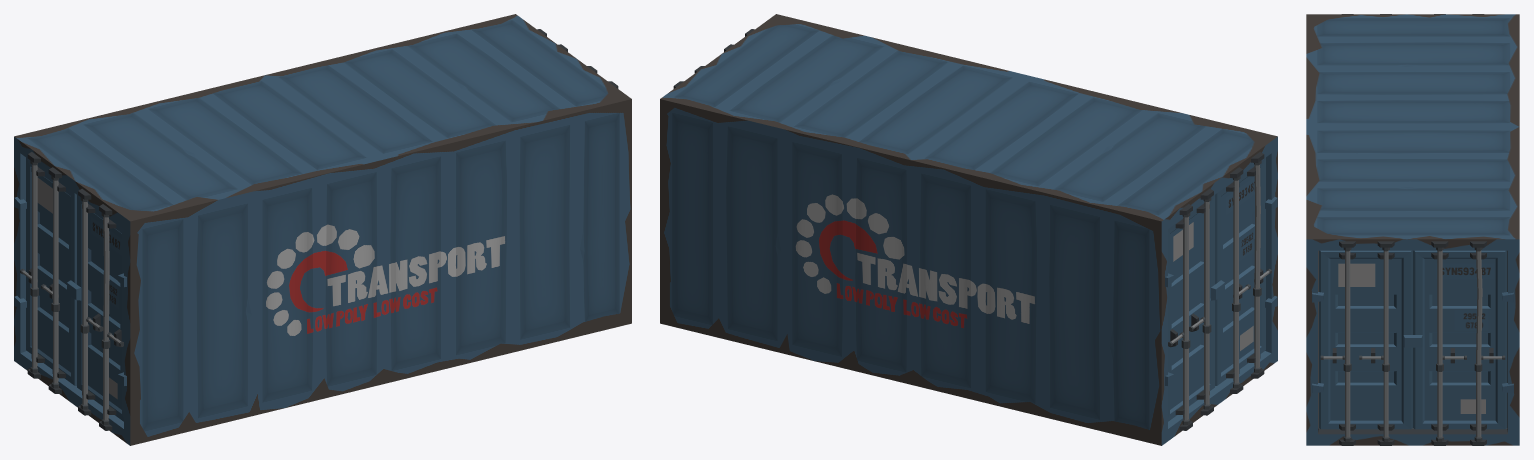
File: SM_Prop_Container_Doors_01.fbx
3 views of the same model, side by side, from view 1: azimuth 30°, elevation 25°; view 2: azimuth 150°, elevation 25°; view 3: azimuth 270°, elevation 25° (orthographic). The views are drawn at different scales.
Parts seen in each view (by area): view 1: SM_Prop_Container_Doors_01; view 2: SM_Prop_Container_Doors_01; view 3: SM_Prop_Container_Doors_01.
Boxes of the visible parts, x1,y1,x2,y2 form: SM_Prop_Container_Doors_01: (14, 14, 631, 445); SM_Prop_Container_Doors_01: (660, 14, 1277, 445); SM_Prop_Container_Doors_01: (1306, 14, 1519, 445).
Bounding box in the file's own units: 619 × 259 × 243.
